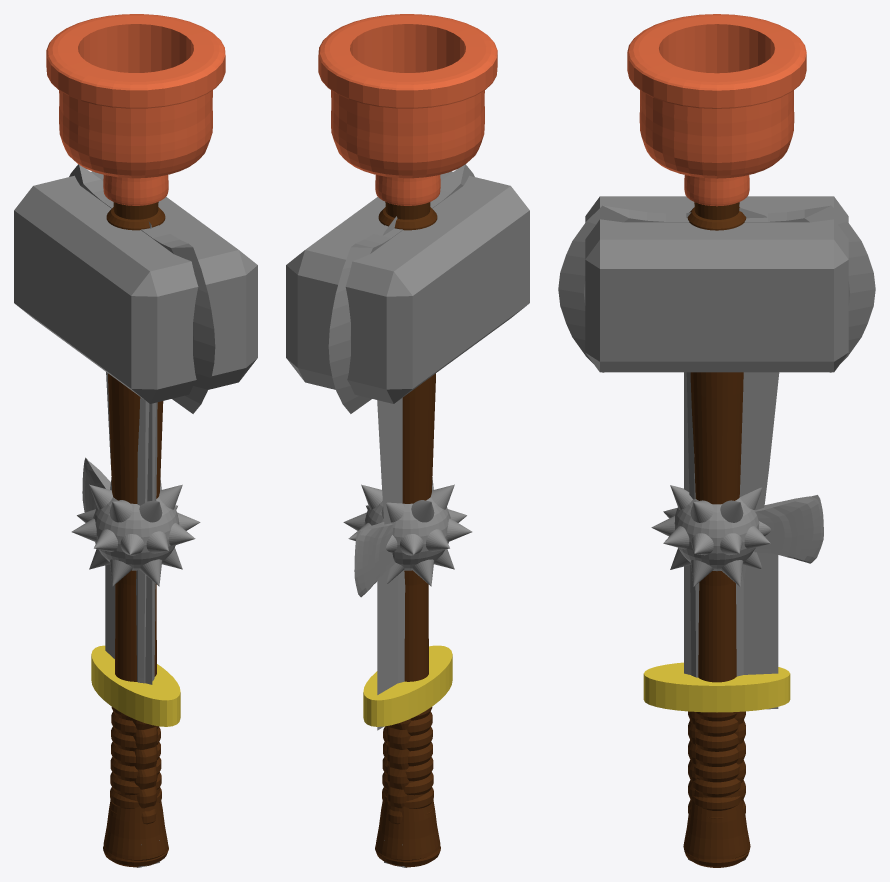
Rendered from MeleeWeapons.fbx.
3 renders of one model, left to right at view 1: azimuth 30°, elevation 25°; view 2: azimuth 150°, elevation 25°; view 3: azimuth 270°, elevation 25°, orthographic.
Visible parts, largest first — view 1: HammerHead, PlungerHead, Bat, BigAxeBlade, Guard, MacheteBlade, MaceHandle, Hilt, SpikyBall, HammerHandle, MacheteGrip, Blade.001 (+3 smaller); view 2: HammerHead, PlungerHead, Bat, BigAxeBlade, Guard, MaceHandle, Hilt, MacheteBlade, KnifeBlade, HammerHandle, SpikyBall, Head (+3 smaller); view 3: HammerHead, PlungerHead, Bat, BigAxeBlade, MacheteBlade, Guard, Hilt, KnifeBlade, HammerHandle, Head, MaceHandle, SpikyBall (+3 smaller).
Boxes of the visible parts, x1=… form: HammerHead: x1=14, y1=171, x2=257, y2=403; PlungerHead: x1=46, y1=14, x2=225, y2=205; Bat: x1=103, y1=207, x2=168, y2=867; BigAxeBlade: x1=69, y1=164, x2=215, y2=413; Guard: x1=91, y1=645, x2=180, y2=726; MacheteBlade: x1=106, y1=221, x2=157, y2=683; MaceHandle: x1=103, y1=775, x2=168, y2=860; Hilt: x1=110, y1=707, x2=161, y2=814; SpikyBall: x1=93, y1=497, x2=179, y2=570; HammerHandle: x1=115, y1=581, x2=156, y2=681; MacheteGrip: x1=132, y1=719, x2=157, y2=824; Blade.001: x1=145, y1=403, x2=152, y2=684; HammerHead: x1=286, y1=171, x2=529, y2=403; PlungerHead: x1=318, y1=14, x2=497, y2=205; Bat: x1=375, y1=207, x2=440, y2=867; BigAxeBlade: x1=328, y1=164, x2=474, y2=413; Guard: x1=363, y1=645, x2=452, y2=726; MaceHandle: x1=375, y1=775, x2=440, y2=860; Hilt: x1=382, y1=707, x2=433, y2=814; MacheteBlade: x1=377, y1=216, x2=402, y2=583; KnifeBlade: x1=377, y1=568, x2=397, y2=730; HammerHandle: x1=404, y1=581, x2=428, y2=681; SpikyBall: x1=364, y1=497, x2=450, y2=570; Head: x1=354, y1=522, x2=394, y2=597; HammerHead: x1=585, y1=196, x2=848, y2=372; PlungerHead: x1=627, y1=14, x2=806, y2=206; Bat: x1=684, y1=207, x2=749, y2=867; BigAxeBlade: x1=558, y1=205, x2=875, y2=372; MacheteBlade: x1=686, y1=208, x2=779, y2=677; Guard: x1=643, y1=662, x2=790, y2=712; Hilt: x1=693, y1=712, x2=740, y2=818; KnifeBlade: x1=743, y1=552, x2=778, y2=709; HammerHandle: x1=698, y1=582, x2=736, y2=682; Head: x1=754, y1=495, x2=823, y2=563; MaceHandle: x1=683, y1=777, x2=750, y2=859; SpikyBall: x1=674, y1=497, x2=759, y2=570.
Bounding box in the file's own units: 245 × 1223 × 434.
